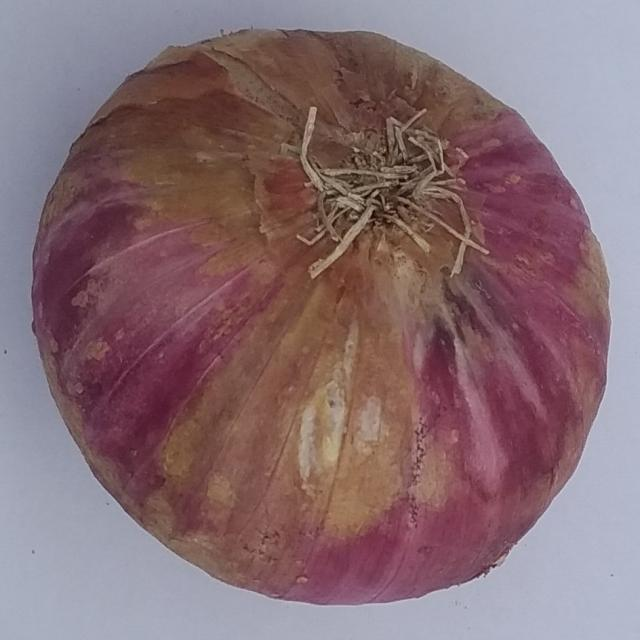onion: (31, 27, 612, 607)
